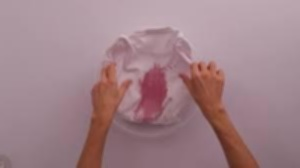wine: (127, 62, 173, 130)
